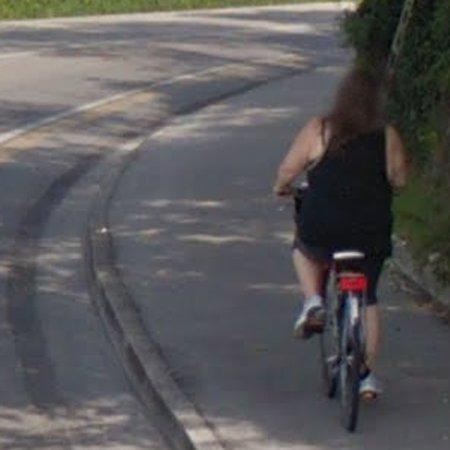bicycles: (321, 251, 368, 432)
